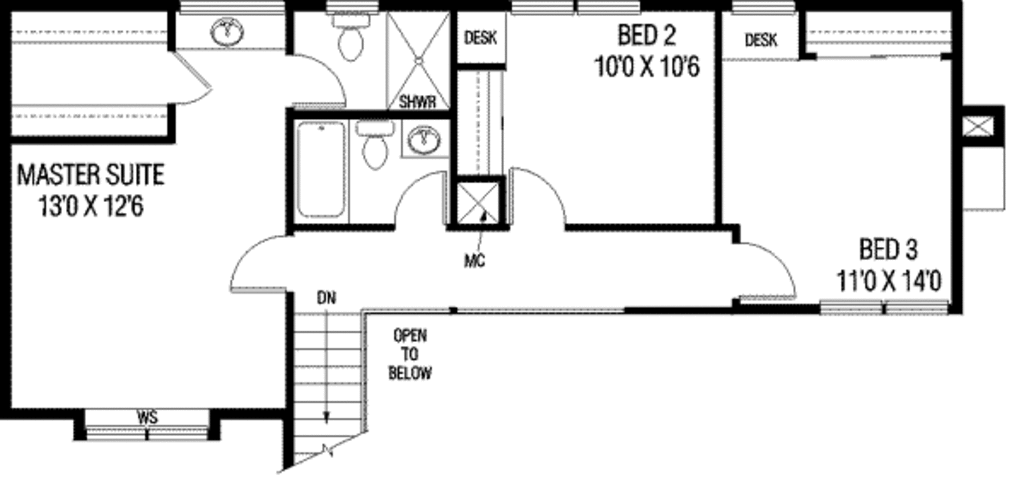door: (221, 230, 297, 299), (505, 166, 573, 231), (729, 234, 797, 299), (388, 172, 454, 231), (159, 47, 222, 108), (284, 51, 350, 107)
large_sink: (317, 1, 378, 63), (352, 114, 405, 175)
small_sink: (162, 3, 284, 48), (398, 116, 451, 156)
stairs: (283, 294, 390, 473)
tub: (291, 114, 350, 228)
window: (819, 296, 953, 318), (727, 1, 799, 15)
